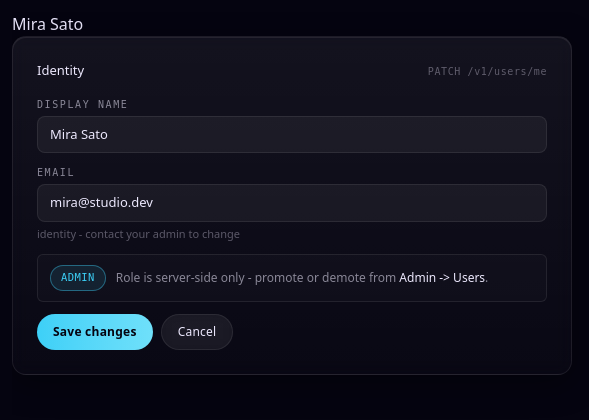
Test: a 400 renders the server sentence inline and leaves the user row unchanged
Expected: the text with test id "probe-name" reads "Mira Sato", [12,13,83,35]
Replace the text in the field labelled "Display name" with "x". click: (292, 134)
box: [37,116,547,153]
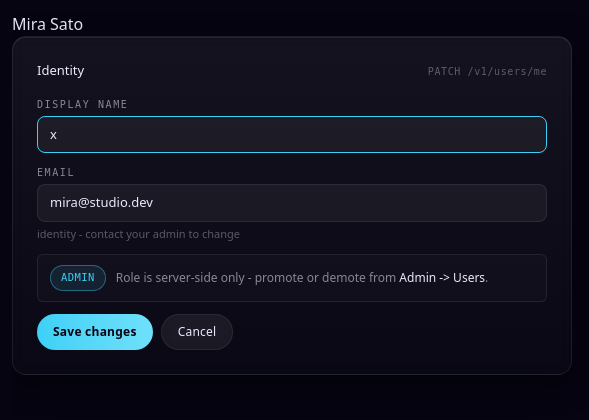
Click the button "Save changes". click: (95, 332)
box: [37,314,153,350]
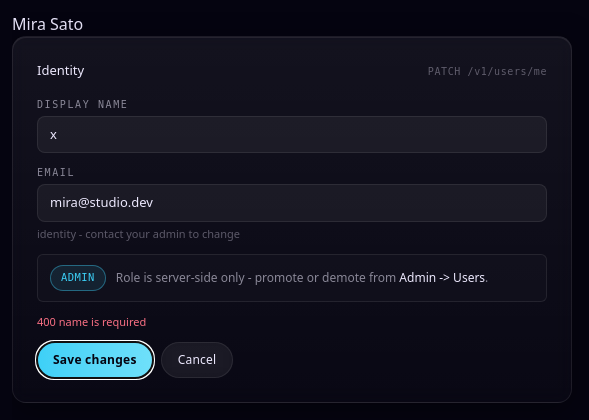
Expected: the text with test id "probe-name" reads "Mira Sato", [12,13,83,35]
Result: the message reads "400 name is required" at [37,314,146,329]
